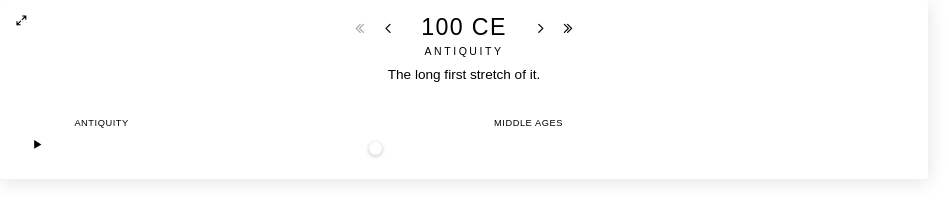
Test: Timeline expand button and a steady ruler › collapses at once when collapse is pressed, even with the pointer resting on it
Click the button named "Expand timeline": (22, 21) left=10, top=9, right=34, bottom=33
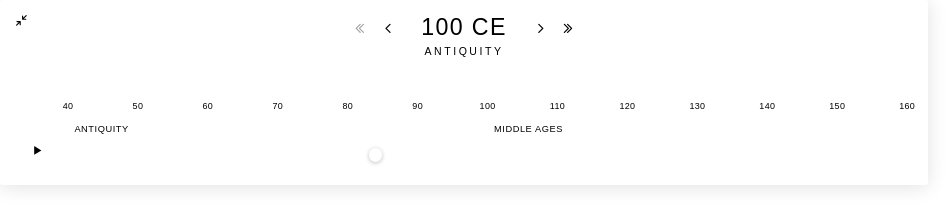
Result: the slider with test id "detail-track" is shown at left=63, top=101, right=915, bottom=111
Click the button named "Collapse timeline": (22, 21) left=10, top=9, right=34, bottom=33
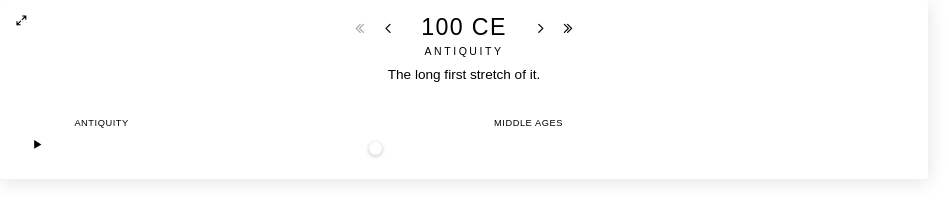
Result: the slider with test id "detail-track" is gone
